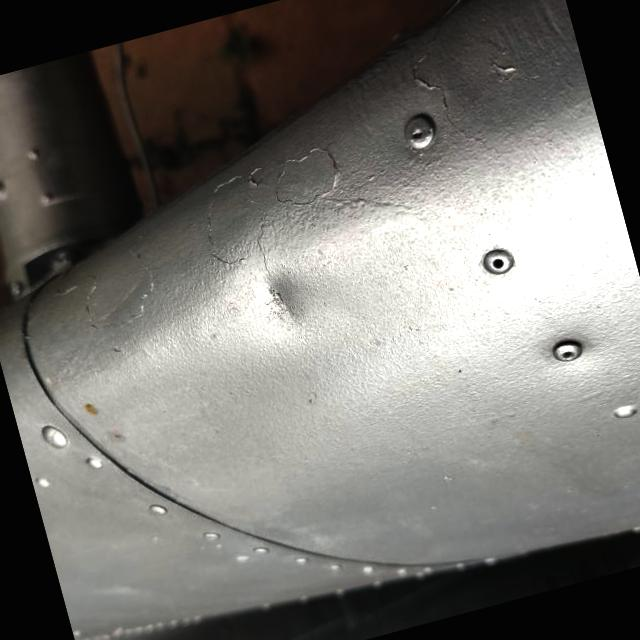dent: (204, 220, 350, 364)
